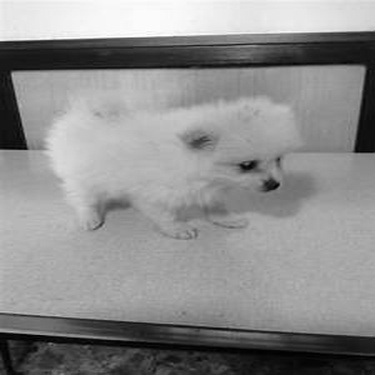dog: (37, 83, 315, 244)
